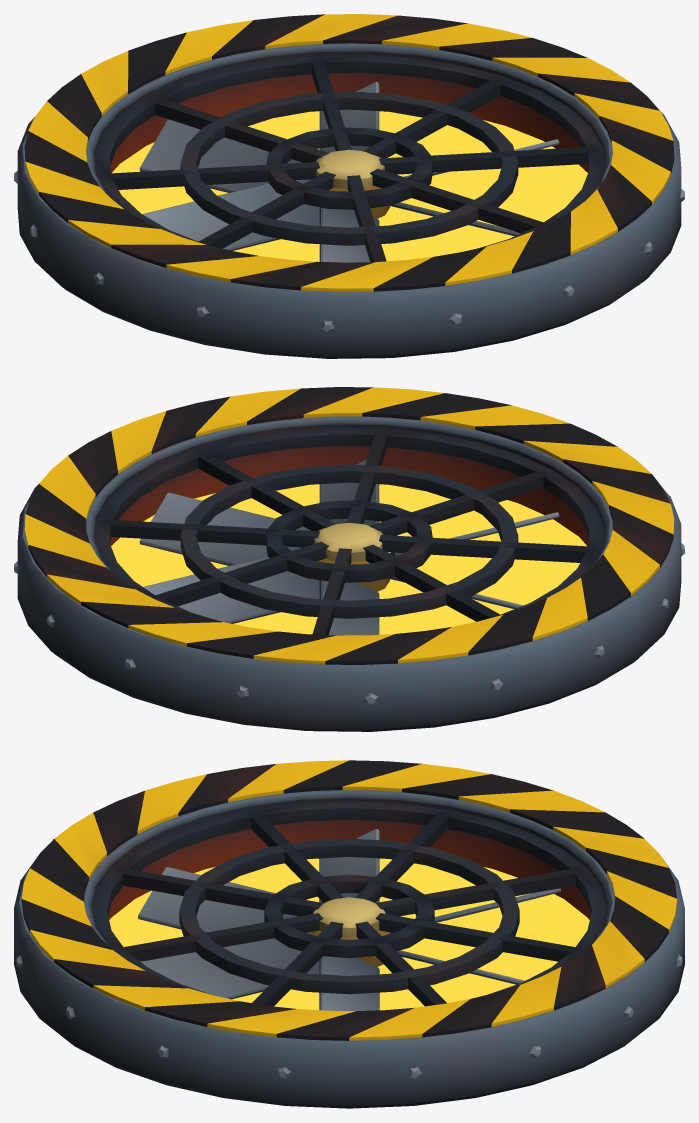
Rendered from updraft_vent_forge.glb.
The picture shows the model from 3 angles, top to bottom: view 1: azimuth 30°, elevation 25°; view 2: azimuth 150°, elevation 25°; view 3: azimuth 270°, elevation 25°; orthographic projection.
Parts seen in each view (by area): view 1: updraft_vent_forge; view 2: updraft_vent_forge; view 3: updraft_vent_forge.
Boxes of the visible parts, left/top/right/bottom form: updraft_vent_forge: left=14, top=14, right=684, bottom=358; updraft_vent_forge: left=14, top=387, right=684, bottom=731; updraft_vent_forge: left=14, top=760, right=684, bottom=1108.
Bounding box in the file's own units: 2.6 × 0.3 × 2.6.
